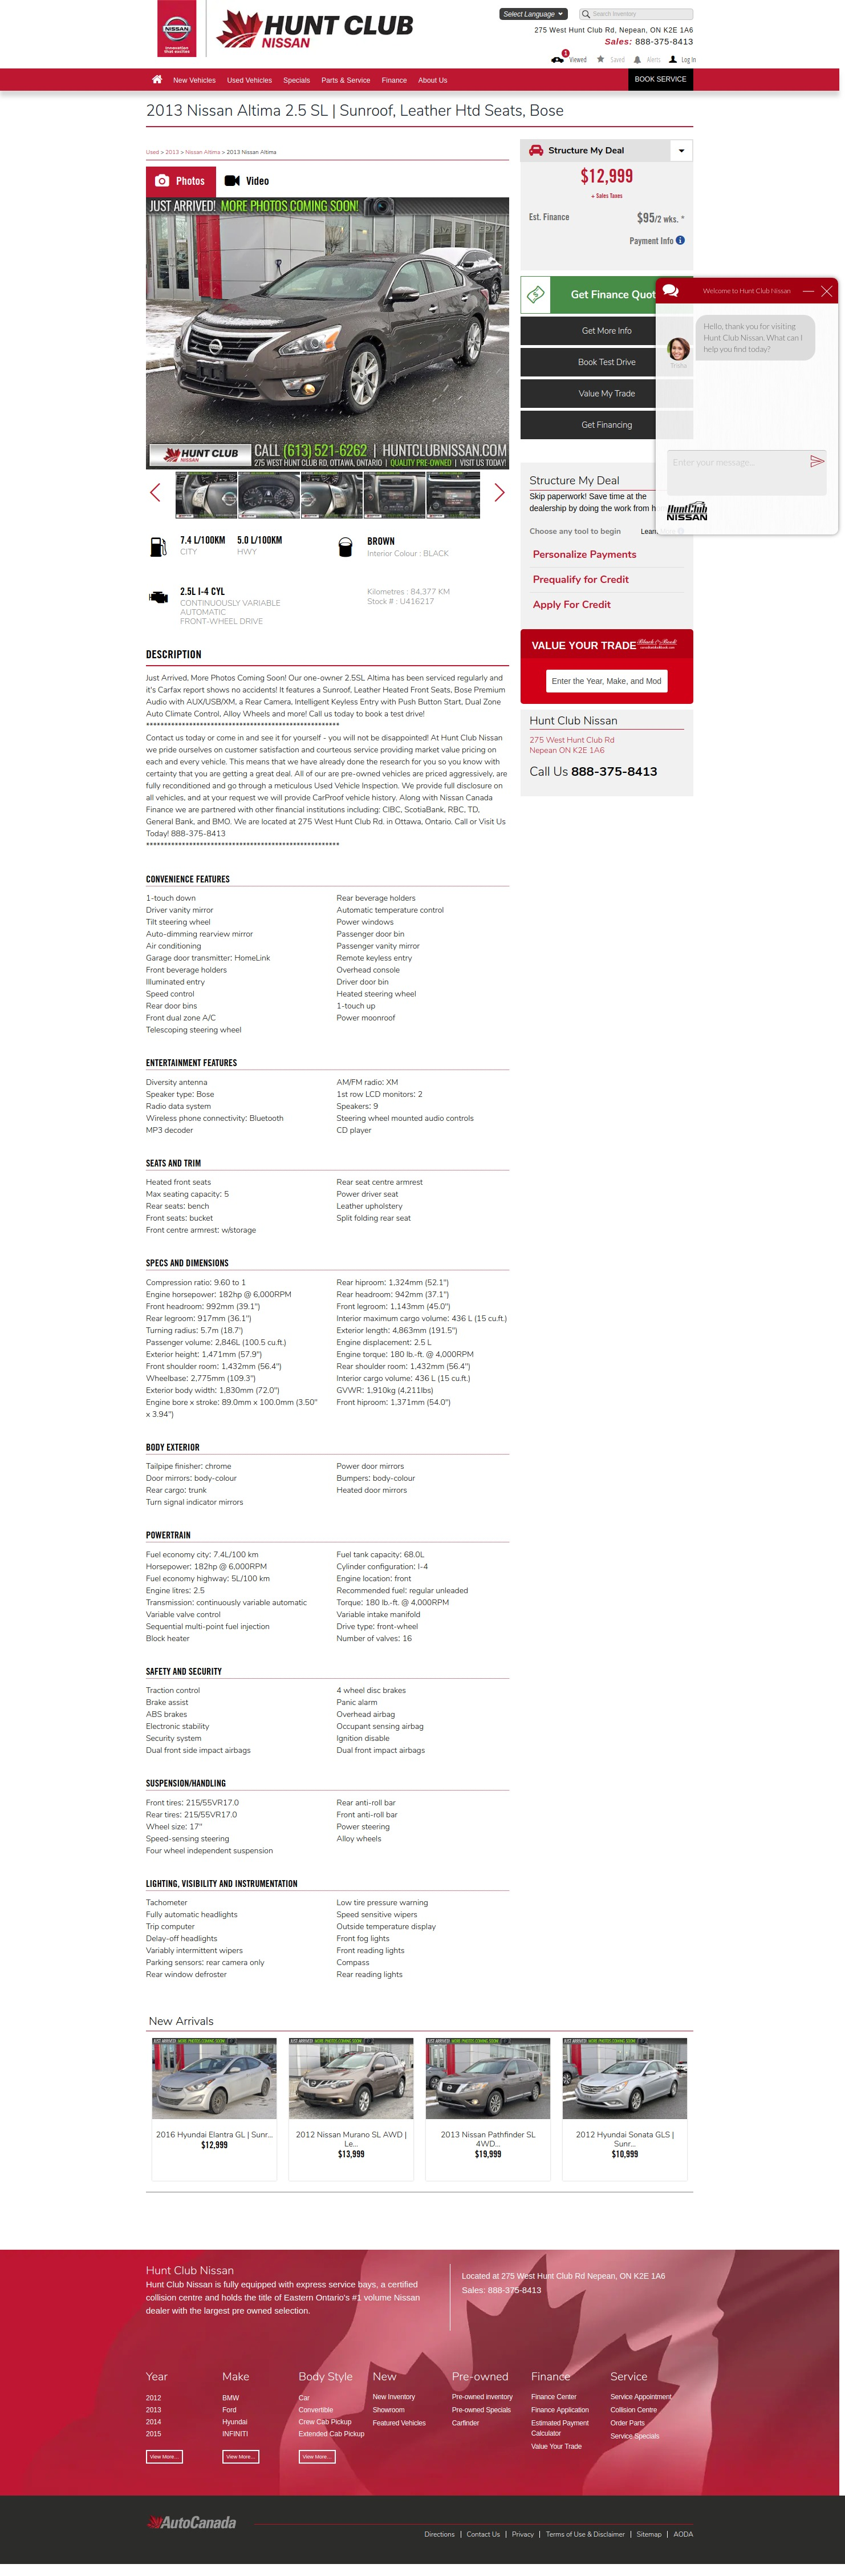car: (494, 483, 505, 503)
